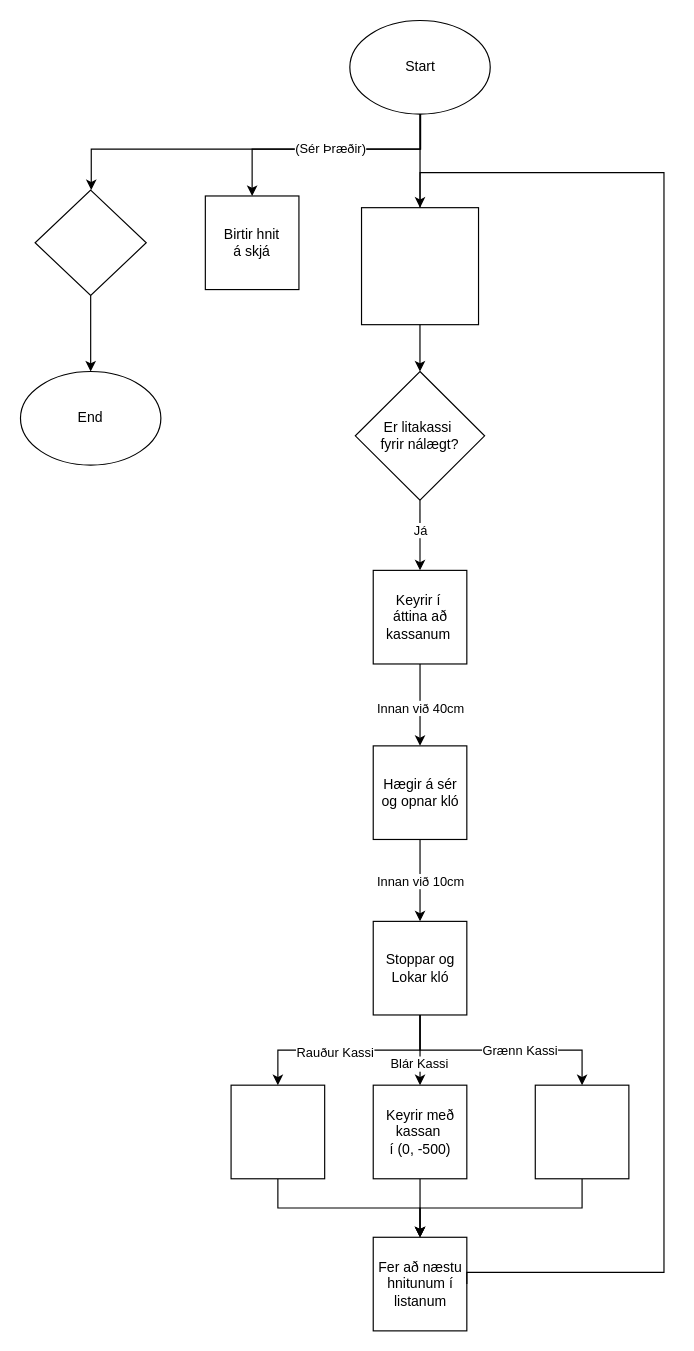
This 694x1351 diagram has some shape labels left out. The centre of each missing label's shape, as x and y in pixels:
Keyrir að þessum hnitum: (x,y) (0,1600) (-1600,1600) (1600,1600): [419,266]
Keyrir með kassan í (0, -1000): [581,1131]
Keyrir með kassan í (0, 0): [277,1131]
Takki "X" eða Neyðarrofi ýttur?: [90,242]
